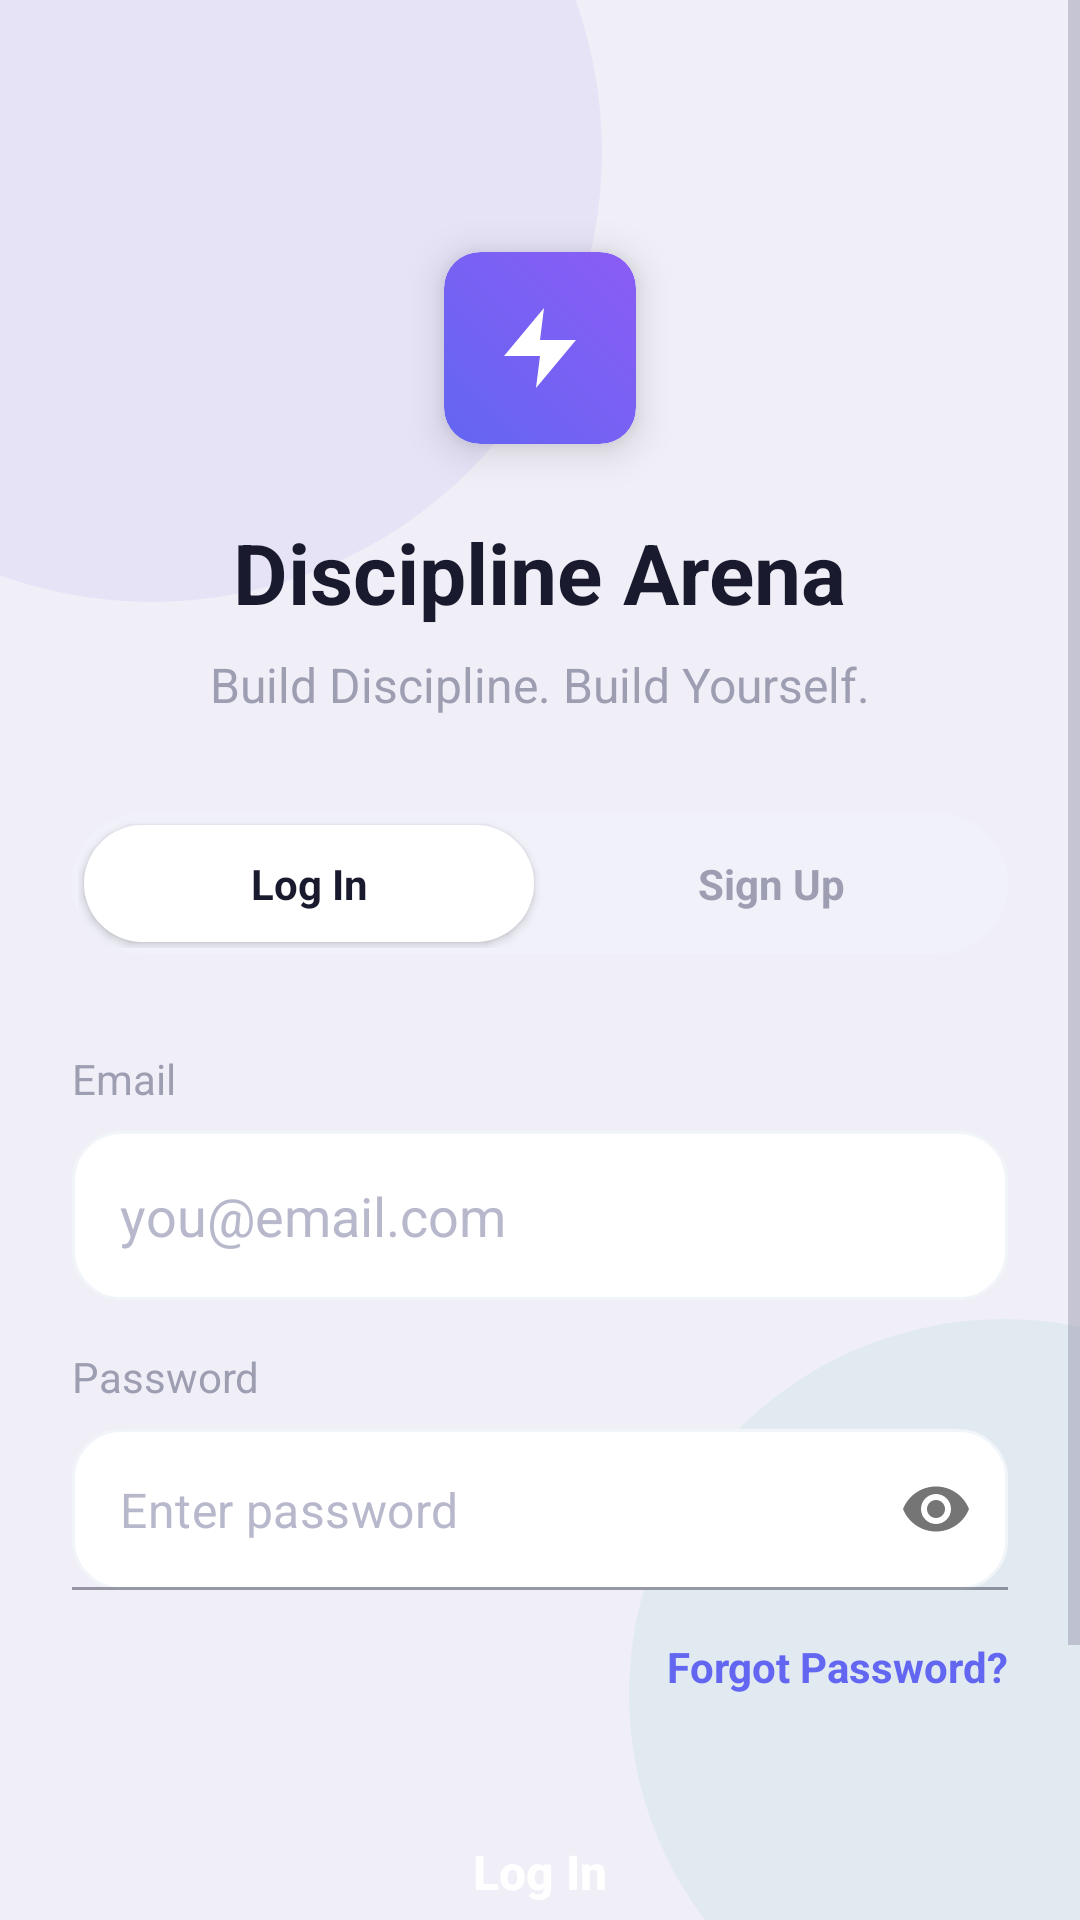

Icon click points for this 1080*1920 phone screenshot, format (x=x, y=y):
bolt: (x=540, y=348)
